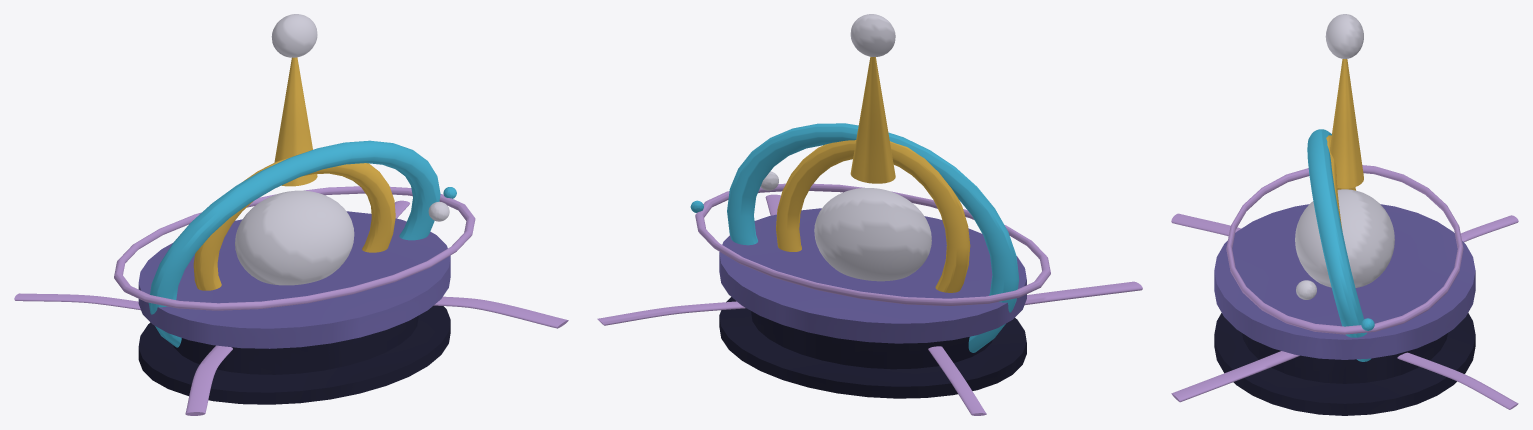
Rendered from 0053_天文图鉴_星系.glb.
3 views of the same model, side by side, from view 1: azimuth 30°, elevation 25°; view 2: azimuth 150°, elevation 25°; view 3: azimuth 270°, elevation 25° (orthographic).
Parts seen in each view (by area): view 1: card_0053; view 2: card_0053; view 3: card_0053.
Part boxes in pixels (x1=…): card_0053: x1=14, y1=14, x2=568, y2=415; card_0053: x1=597, y1=14, x2=1142, y2=415; card_0053: x1=1171, y1=14, x2=1518, y2=415.
Size of the model in its own units: 1.22 by 1 by 0.9293.
